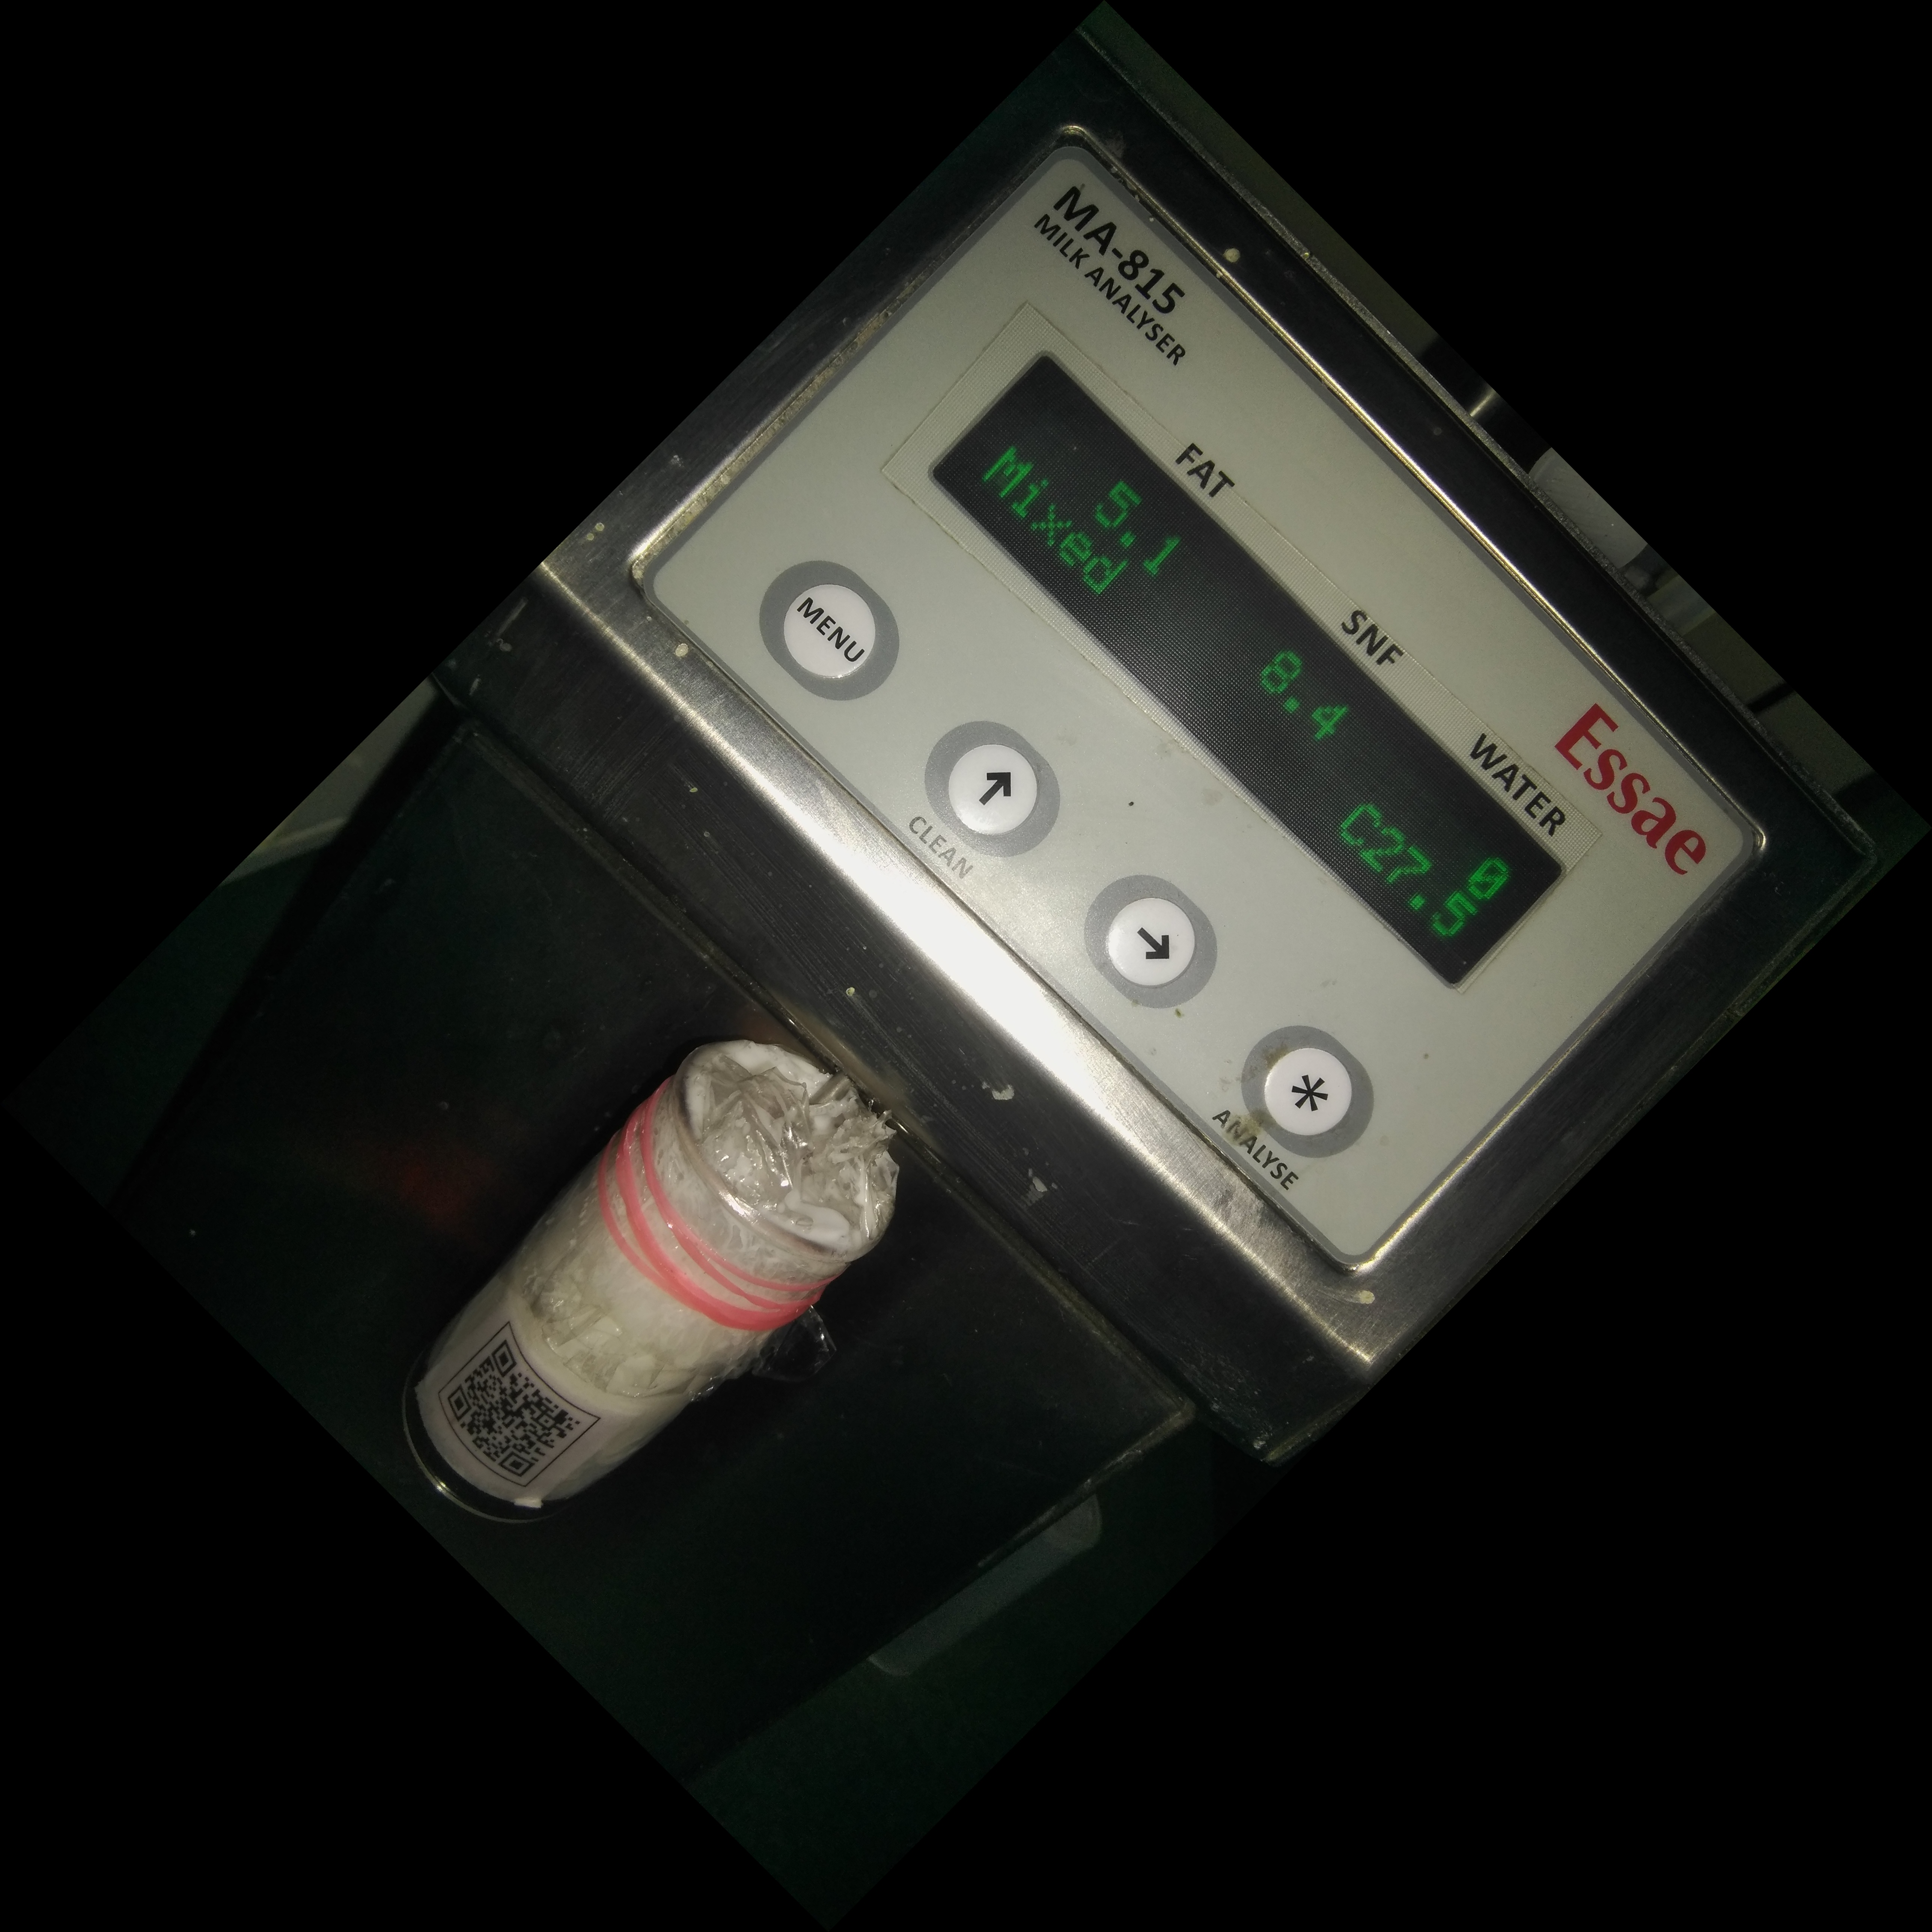lcd: (886, 313, 1592, 985)
qr: (419, 1307, 607, 1516)
